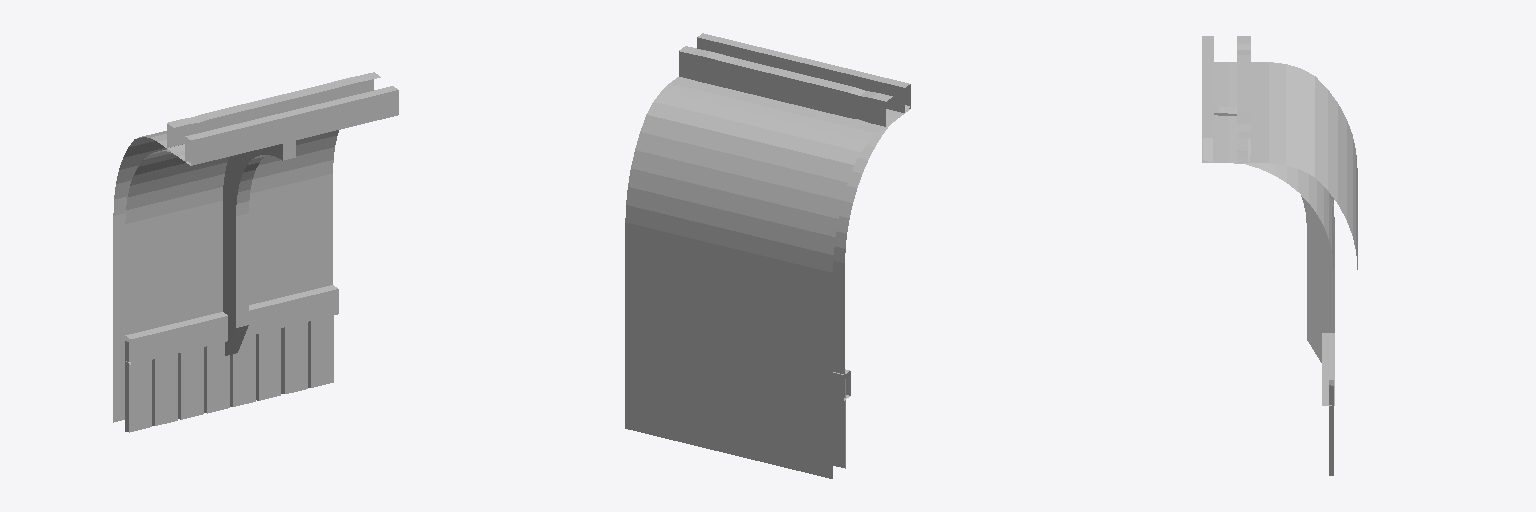
File: Overhang_WoodBrick_Short.obj
3 views of the same model, side by side, from view 1: azimuth 30°, elevation 25°; view 2: azimuth 150°, elevation 25°; view 3: azimuth 270°, elevation 25° (orthographic).
Visible parts, largest first — view 1: Overhang_WoodBrick_Short; view 2: Overhang_WoodBrick_Short; view 3: Overhang_WoodBrick_Short.
Boxes of the visible parts, box(x1,y1,x2,y2) form: Overhang_WoodBrick_Short: box(113, 72, 398, 432); Overhang_WoodBrick_Short: box(625, 33, 910, 478); Overhang_WoodBrick_Short: box(1202, 36, 1357, 475).
Size of the model in its own units: 2 by 3.12 by 1.29.